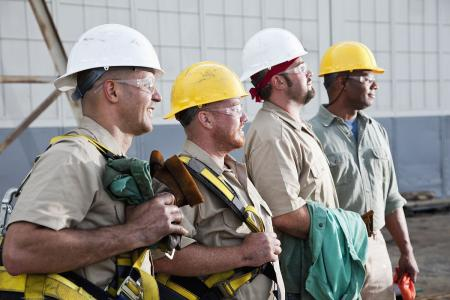hard-hat: (52, 23, 164, 92), (162, 61, 249, 120), (239, 27, 308, 82), (317, 41, 384, 77)
person: (0, 22, 190, 299), (240, 27, 369, 300), (149, 61, 283, 300), (306, 40, 420, 299)
ppe-suit: (305, 103, 407, 298)
vest: (1, 121, 186, 299), (151, 139, 283, 298), (243, 101, 342, 299)
